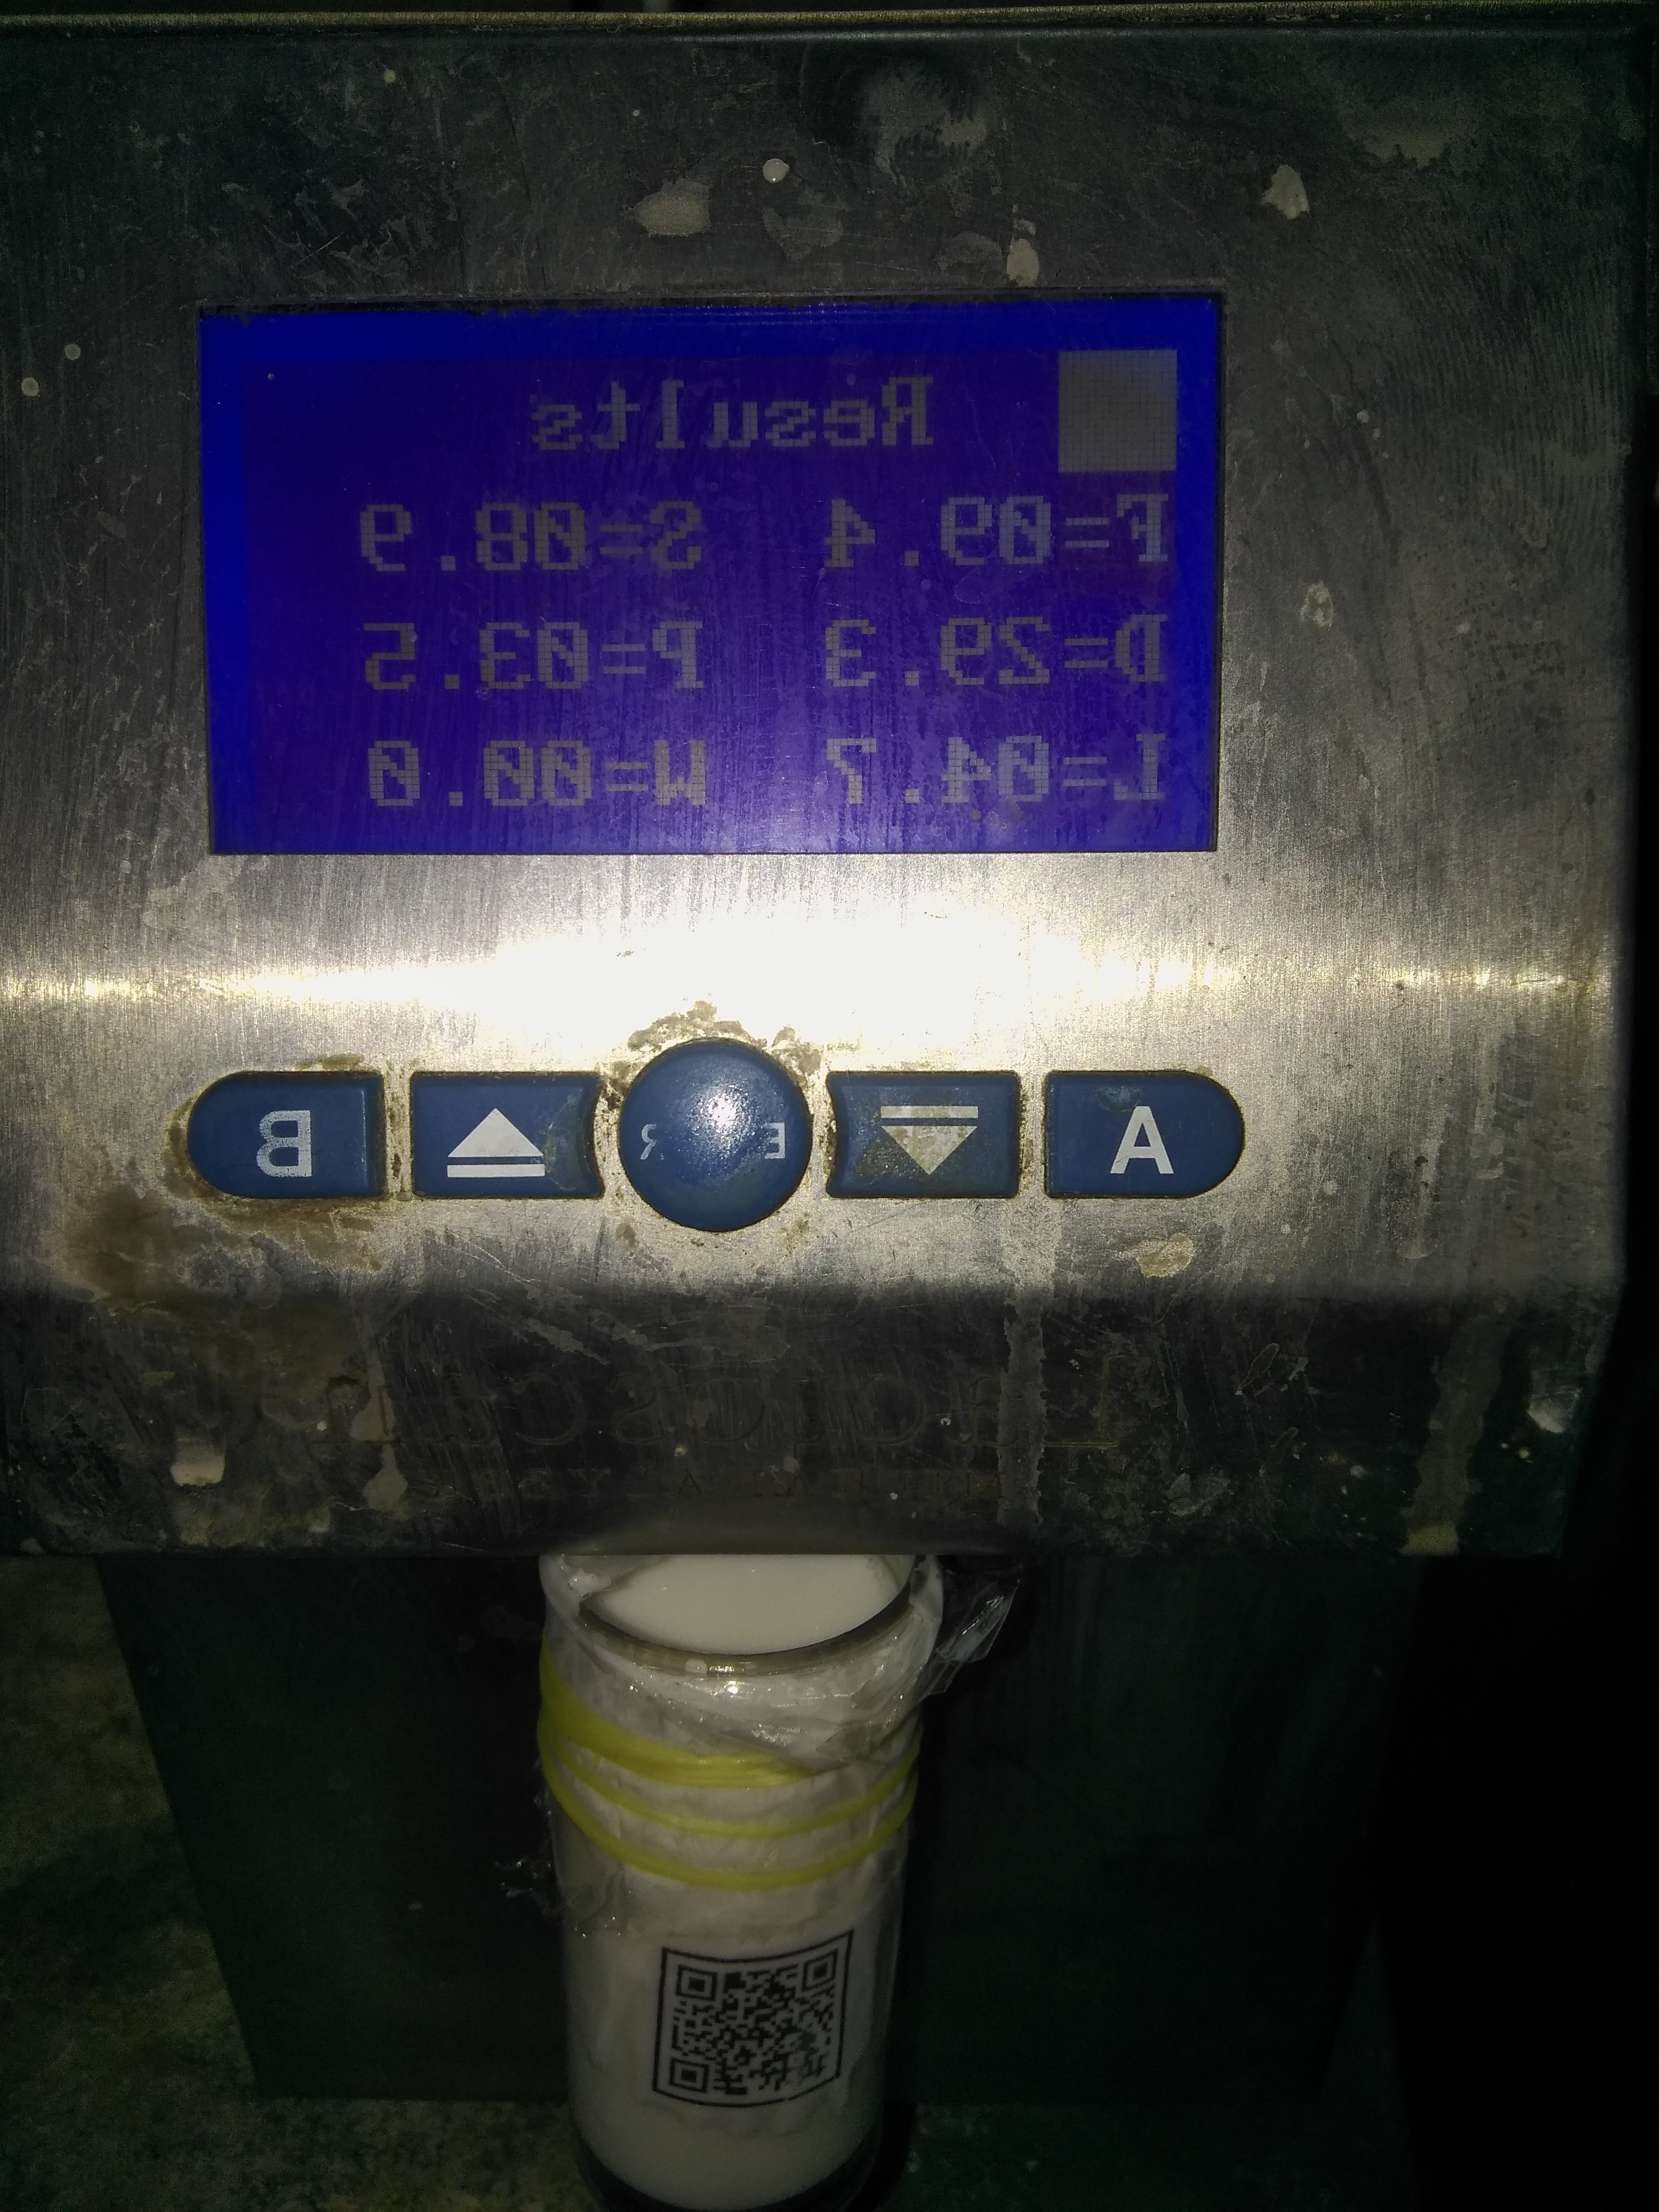lcd: (186, 263, 1236, 890)
qr: (643, 1921, 859, 2123)
